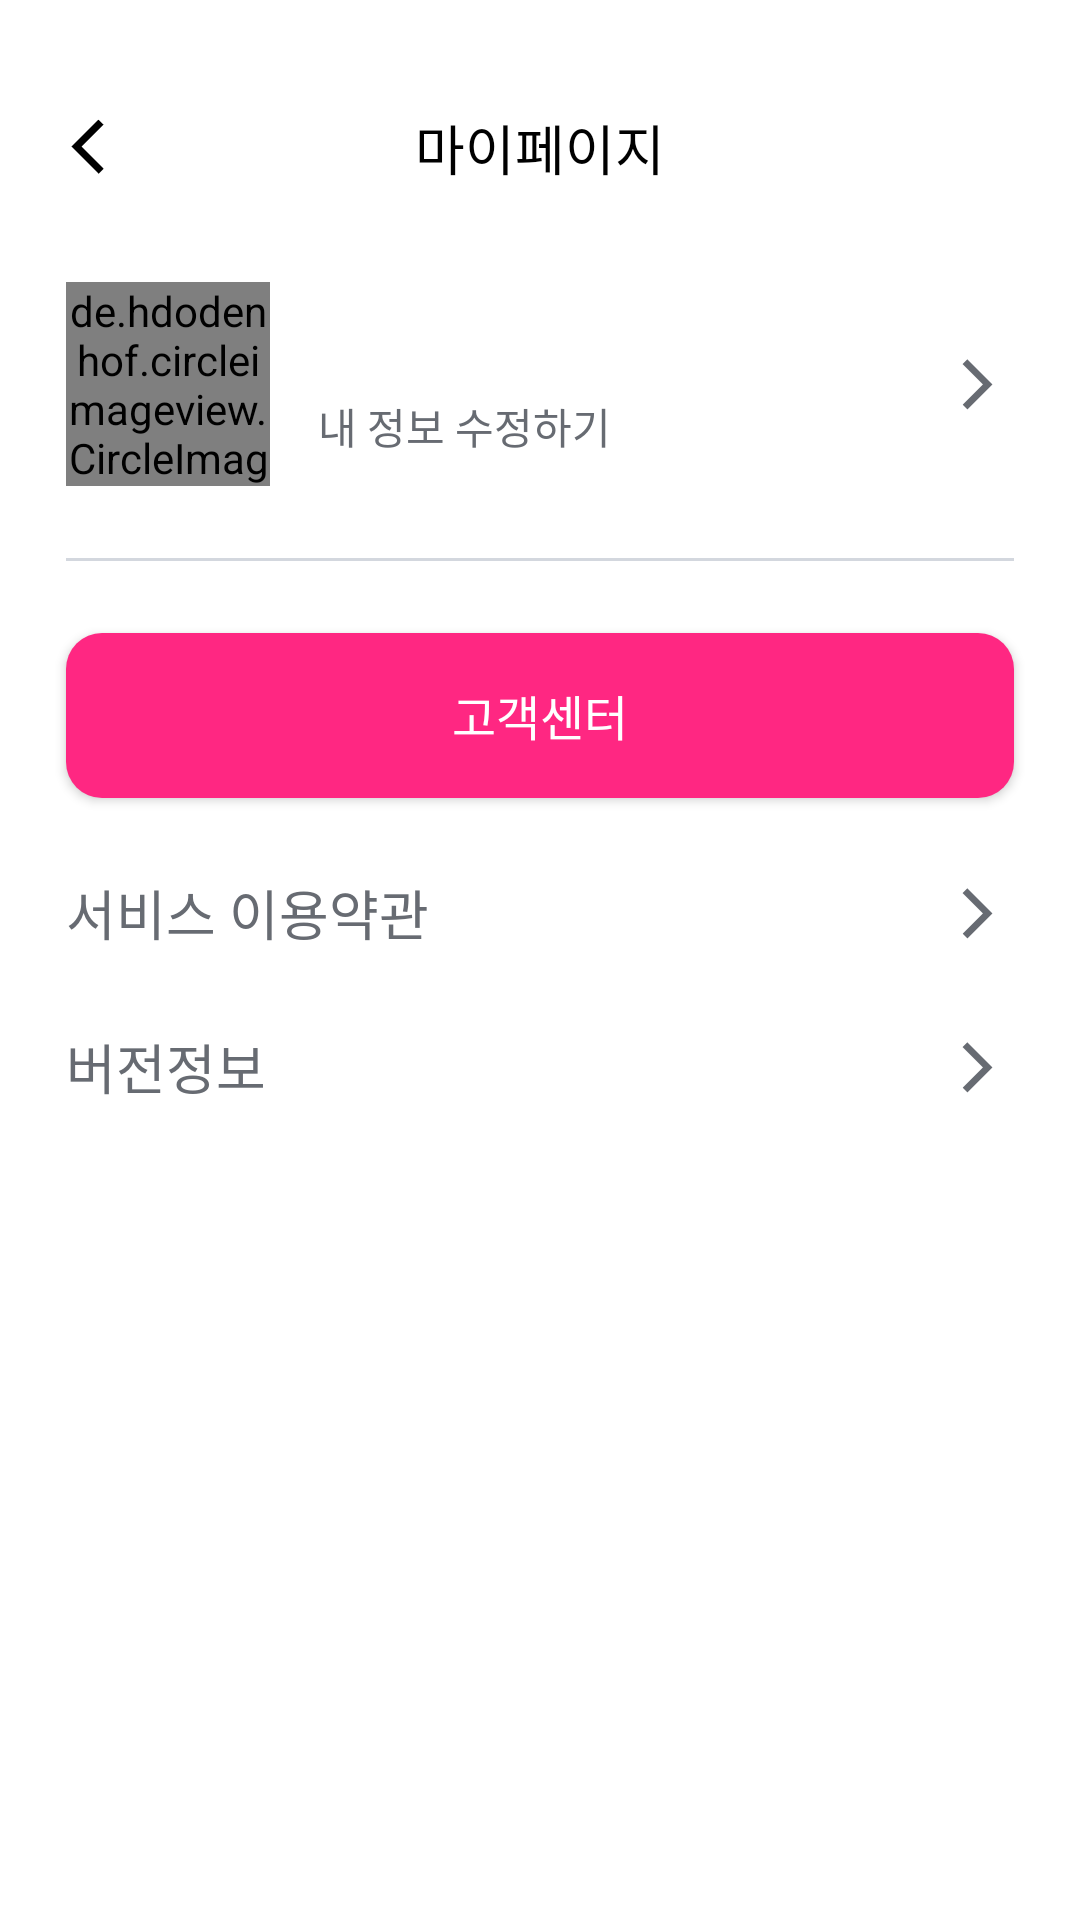

Icons on this 1080w x 1920h Android screen, each with its box as [left=x1, top=y1, right=x2, bottom=y2]:
arrow left mono: [left=71, top=120, right=104, bottom=174]
arrow righ midgrey: [left=963, top=359, right=993, bottom=410], [left=963, top=888, right=993, bottom=939], [left=963, top=1042, right=993, bottom=1093]
